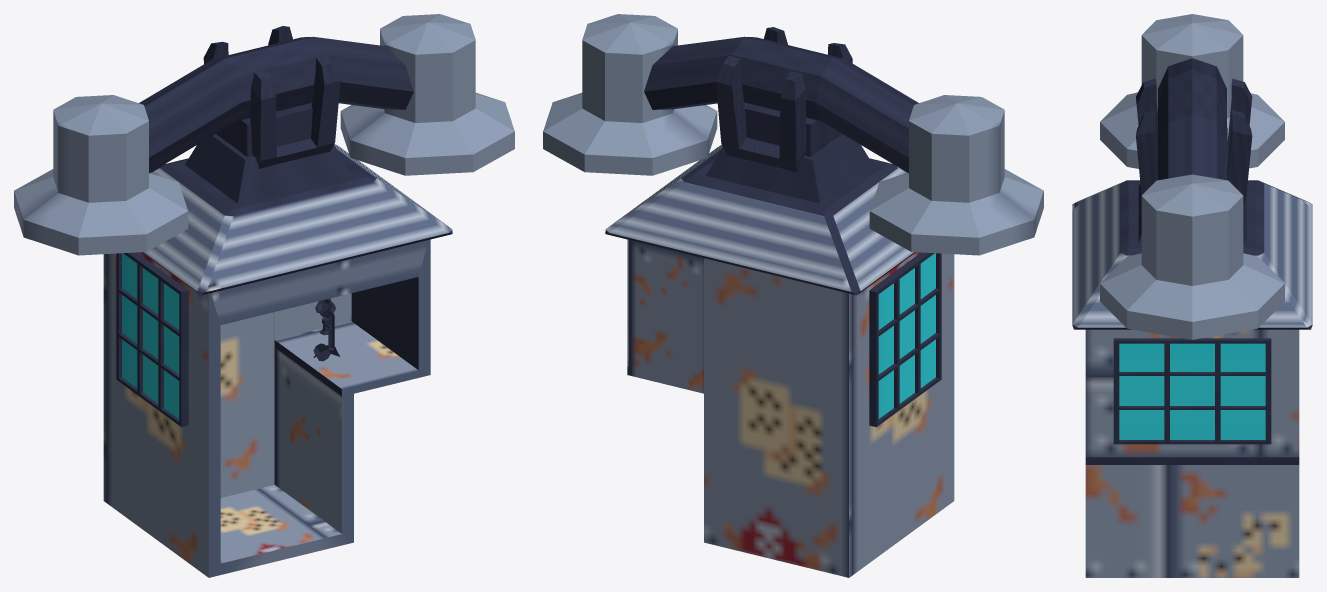
Rendered from Cabine.fbx.
3 views of the same model, side by side, from view 1: azimuth 30°, elevation 25°; view 2: azimuth 150°, elevation 25°; view 3: azimuth 270°, elevation 25° (orthographic).
Parts seen in each view (by area): view 1: Cabine; view 2: Cabine; view 3: Cabine.
Boxes of the visible parts, bbox=[...] form: Cabine: bbox=[14, 14, 514, 577]; Cabine: bbox=[543, 14, 1043, 577]; Cabine: bbox=[1072, 14, 1312, 577].
Bounding box in the file's own units: 412 × 176 × 380.
